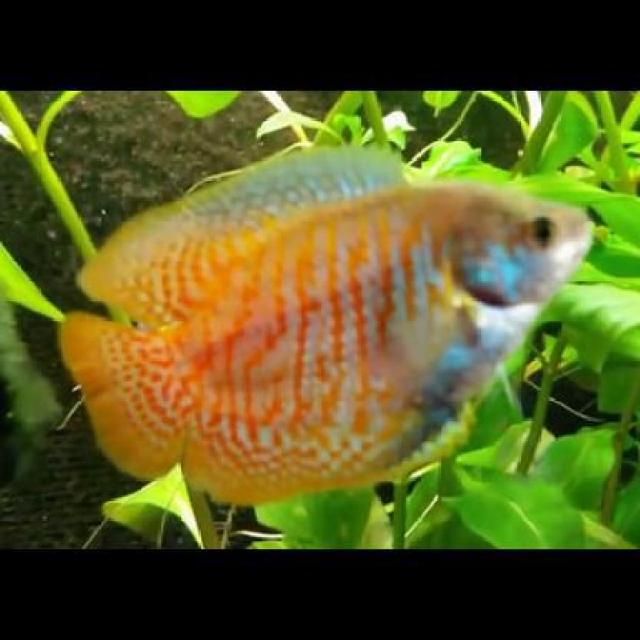Gourami: (63, 130, 602, 507)
